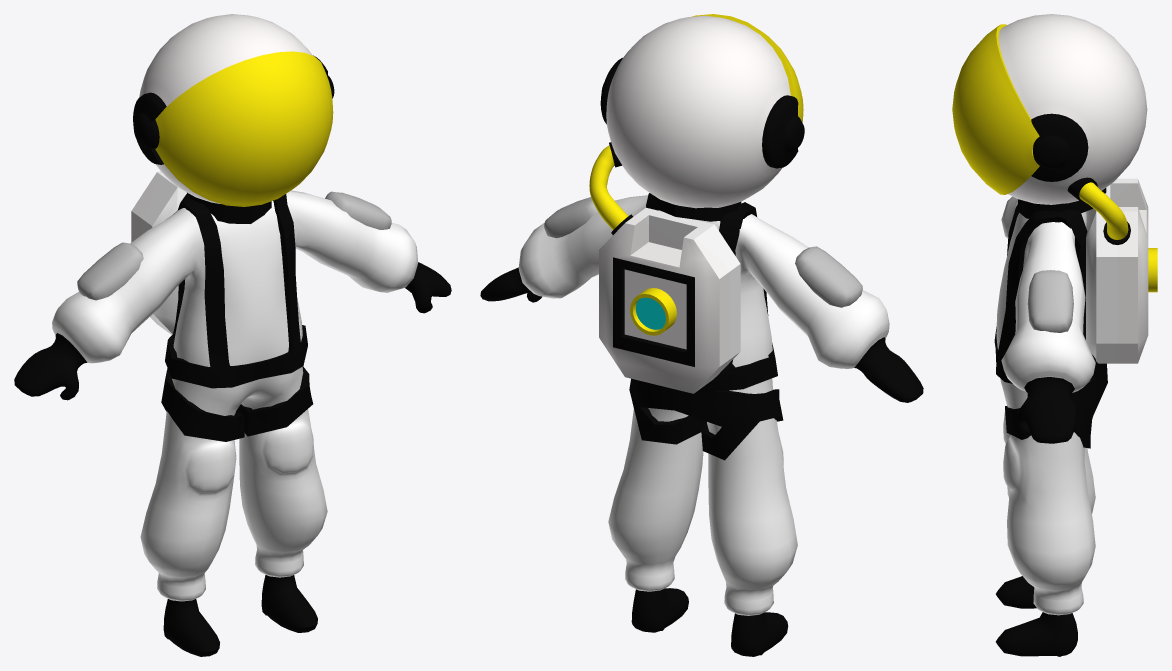
The model's file is main02FIX.fbx.
3 renders of one model, left to right at view 1: azimuth 30°, elevation 25°; view 2: azimuth 150°, elevation 25°; view 3: azimuth 270°, elevation 25°, orthographic.
Parts seen in each view (by area): view 1: Cube, Cube.001; view 2: Cube, Cube.001; view 3: Cube, Cube.001.
Part boxes in pixels (x1,y1,x2,y2): Cube: (14,14,451,656); Cube.001: (131,171,186,334); Cube: (480,14,923,656); Cube.001: (589,142,740,393); Cube: (952,14,1147,656); Cube.001: (1067,177,1157,363).
Bounding box in the file's own units: 476 × 644 × 198.
